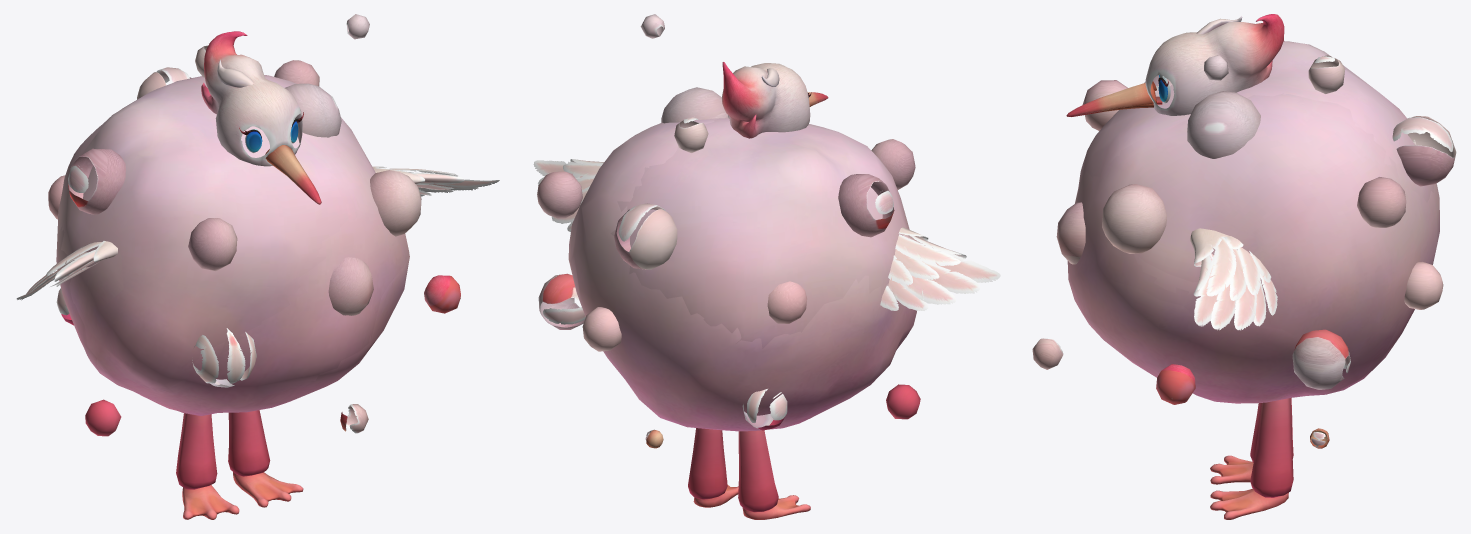
File: fahloo.glb
The picture shows the model from 3 angles, left to right: view 1: azimuth 30°, elevation 25°; view 2: azimuth 150°, elevation 25°; view 3: azimuth 270°, elevation 25°; orthographic projection. The views are drawn at different scales.
Parts seen in each view (by area): view 1: M_Parmon_10481_Body01_LOD1_-580617667.obj, M_Parmon_10481_Body_LOD1_-580617667.obj, M_Parmon_10481_Body02_LOD1_-580617667.obj; view 2: M_Parmon_10481_Body01_LOD1_-580617667.obj, M_Parmon_10481_Body_LOD1_-580617667.obj, M_Parmon_10481_Body02_LOD1_-580617667.obj; view 3: M_Parmon_10481_Body01_LOD1_-580617667.obj, M_Parmon_10481_Body02_LOD1_-580617667.obj, M_Parmon_10481_Body_LOD1_-580617667.obj.
Part boxes in pixels (x1,y1,x2,y2): M_Parmon_10481_Body01_LOD1_-580617667.obj: (56,75,409,415); M_Parmon_10481_Body_LOD1_-580617667.obj: (16,31,499,519); M_Parmon_10481_Body02_LOD1_-580617667.obj: (48,14,460,436); M_Parmon_10481_Body01_LOD1_-580617667.obj: (568,117,916,431); M_Parmon_10481_Body_LOD1_-580617667.obj: (533,62,1000,519); M_Parmon_10481_Body02_LOD1_-580617667.obj: (537,14,920,448); M_Parmon_10481_Body01_LOD1_-580617667.obj: (1067,41,1439,403); M_Parmon_10481_Body02_LOD1_-580617667.obj: (1032,41,1456,448); M_Parmon_10481_Body_LOD1_-580617667.obj: (1066,14,1293,519).
Bounding box in the file's own units: 1.09 × 0.9984 × 0.7819.
Materials: 3 (3 with a texture image).
